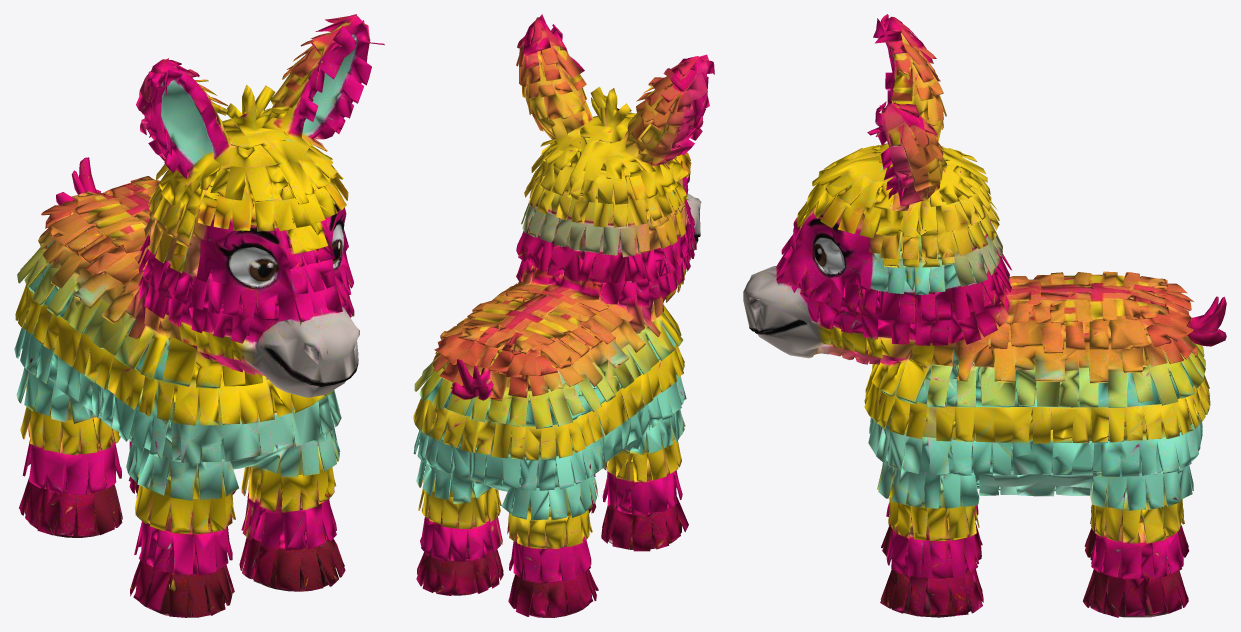
Rendered from donkey_pinata.glb.
The picture shows the model from 3 angles, left to right: view 1: azimuth 30°, elevation 25°; view 2: azimuth 150°, elevation 25°; view 3: azimuth 270°, elevation 25°; orthographic projection. The views are drawn at different scales.
Visible parts, largest first — view 1: mesh_node; view 2: mesh_node; view 3: mesh_node.
Boxes of the visible parts, x1,y1,x2,y2 form: mesh_node: (14,14,384,617); mesh_node: (413,14,714,617); mesh_node: (743,14,1226,617).
Bounding box in the file's own units: 0.811 × 1.9 × 1.61.
1 material, 1 textured.
